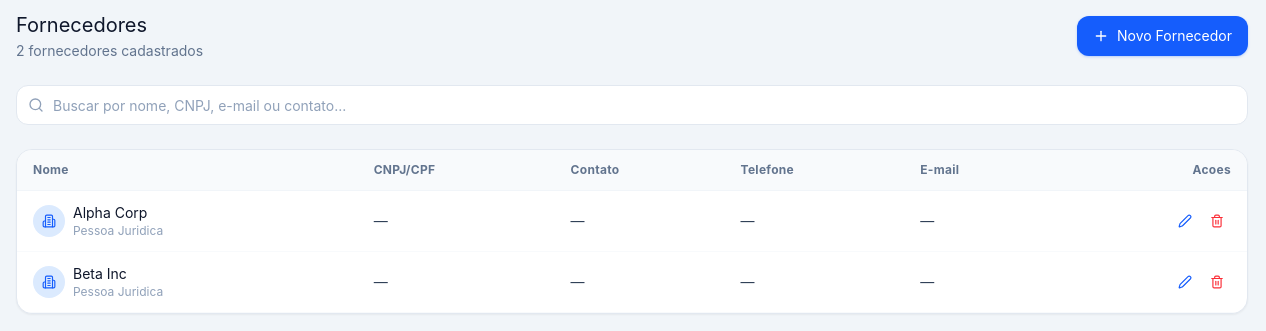
Test case: Fornecedores › filters fornecedores by search
The width and height of the screenshot is (1266, 331).
In the search field with placeholder "Buscar por nome, CNPJ, e-mail ou contato...": (632, 105) [16,85,1248,125], type "Alpha"
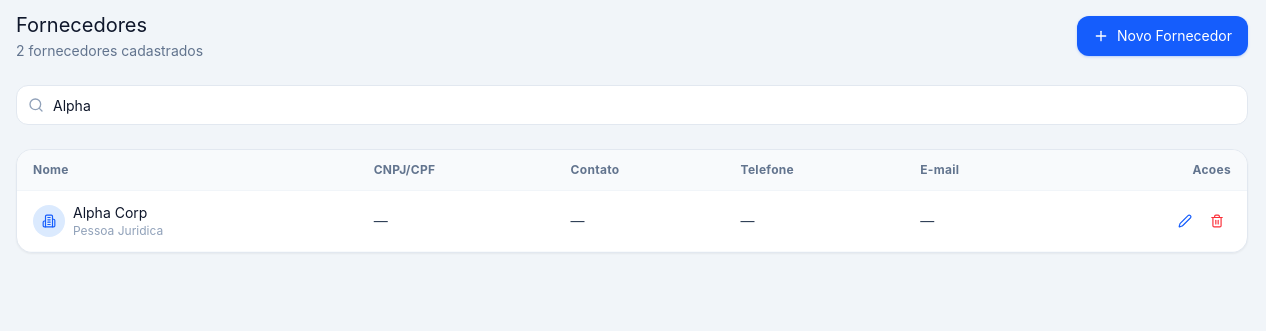
expect the text "Alpha Corp" is shown: met, box [73,204,147,221]
expect the text "Beta Inc" is gone: met
